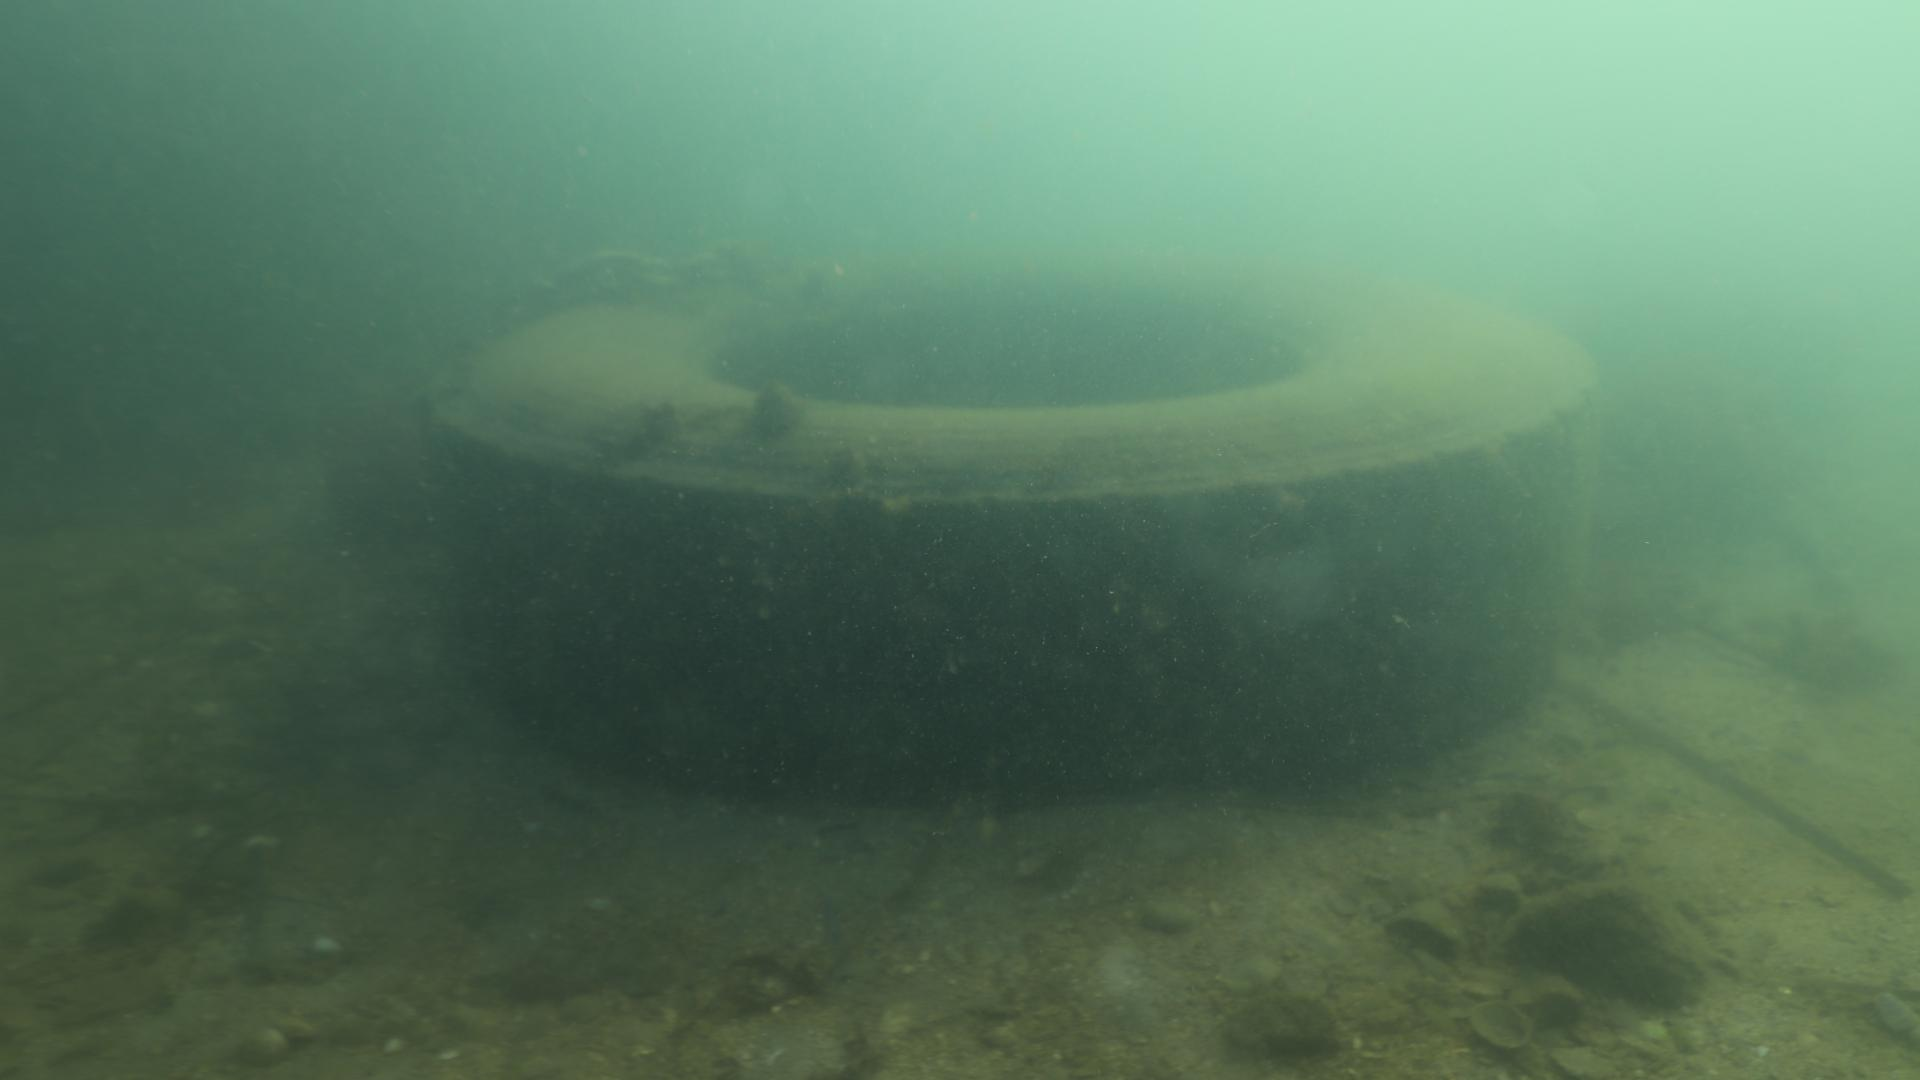tire: (419, 248, 1593, 804)
